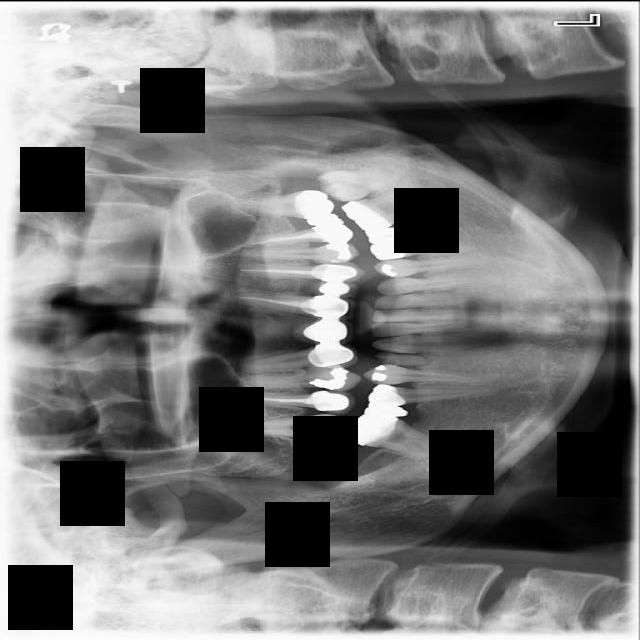52: (291, 256, 366, 370), (328, 195, 418, 269), (290, 180, 366, 265), (348, 378, 416, 457), (304, 358, 363, 394), (299, 408, 345, 448), (311, 239, 360, 266), (311, 389, 355, 414), (363, 363, 408, 384), (373, 257, 417, 278)
73: (232, 282, 325, 318), (246, 226, 325, 248), (253, 384, 320, 409), (238, 264, 320, 279), (570, 34, 584, 40)
Biomet 3i Implant: (316, 156, 408, 206)
Blue Sky Bio Implant: (340, 184, 433, 235)
Implant: (349, 407, 445, 462)
